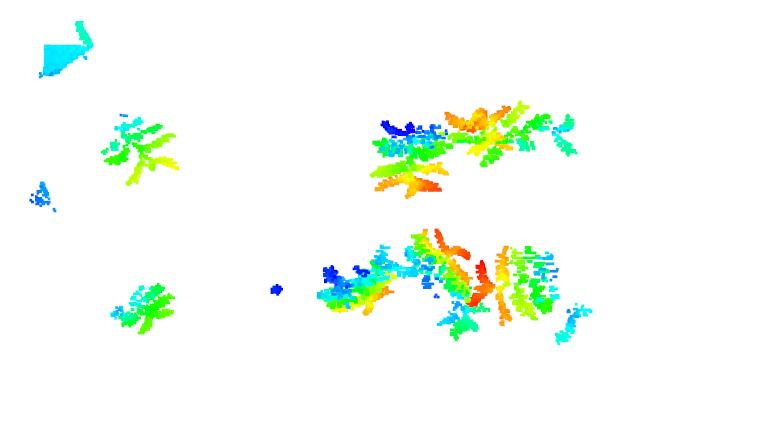chickpea: (384, 229, 482, 340), (442, 101, 584, 168), (468, 243, 561, 322), (365, 117, 452, 200), (95, 114, 182, 187), (318, 241, 399, 317), (104, 282, 176, 338)
